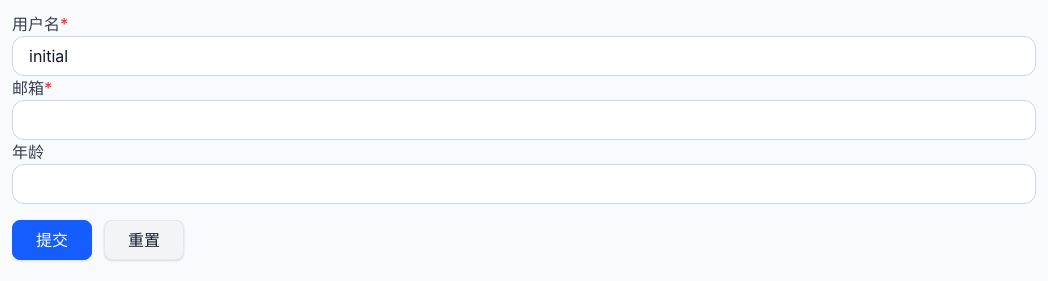
Scenario: Form Component › 表单重置测试 › 应该重置表单值
Replace the text in the field labelled "用户名*" with "changed": (524, 56) top-left (12, 36), bottom-right (1036, 76)
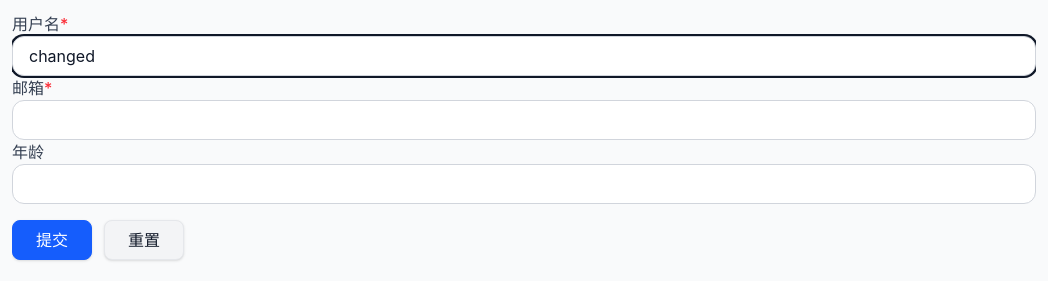
Click the button "重置": click(144, 240) top-left (104, 220), bottom-right (184, 260)
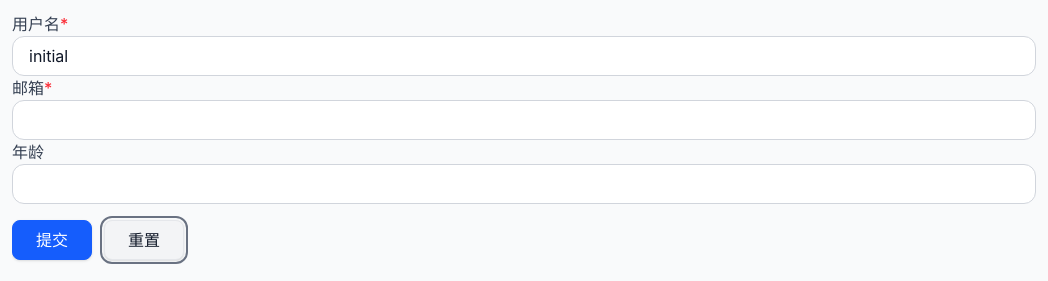
Check: the field labelled "用户名*" holds "initial", box top-left (12, 36), bottom-right (1036, 76)
